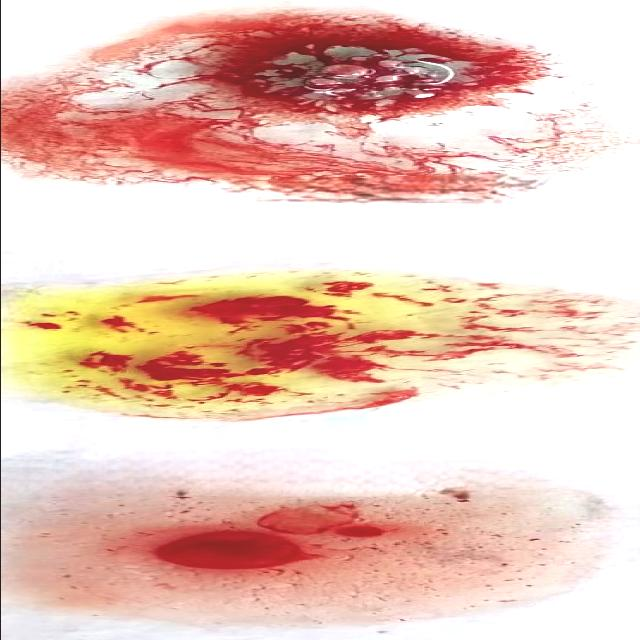A: (0, 17, 639, 195)
B: (0, 274, 616, 406)
D: (7, 480, 615, 624)
